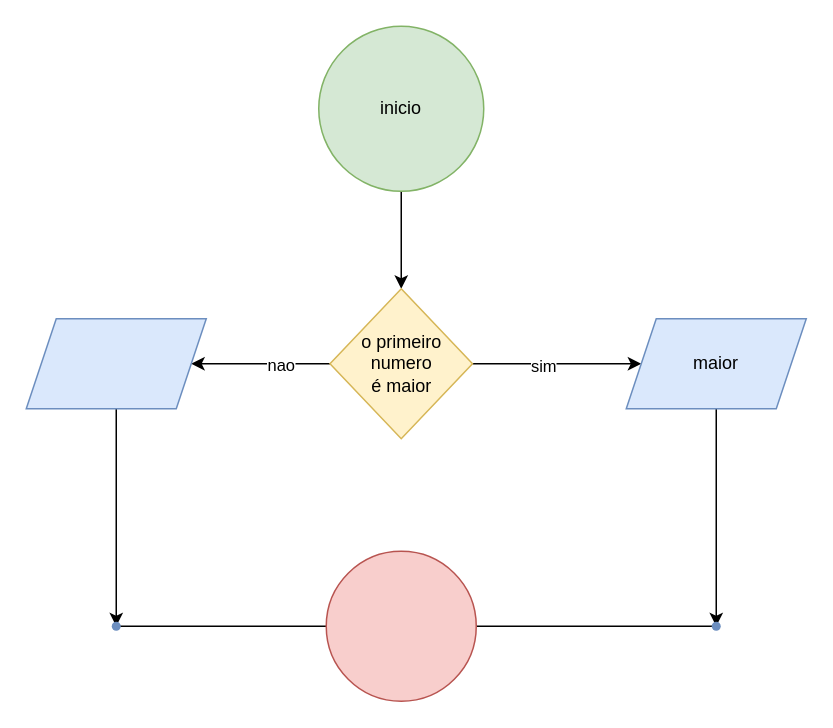
Some shapes in this 833 by 728 pixel diagram are drawn without their labels. The box of each missing label's shape, as (x1, y1, x2, y2) in pixels:
fim: (325, 550, 476, 701)
menor: (25, 317, 206, 409)
